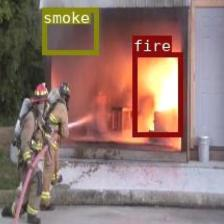fire: (132, 52, 182, 136)
smoke: (41, 7, 98, 54)
